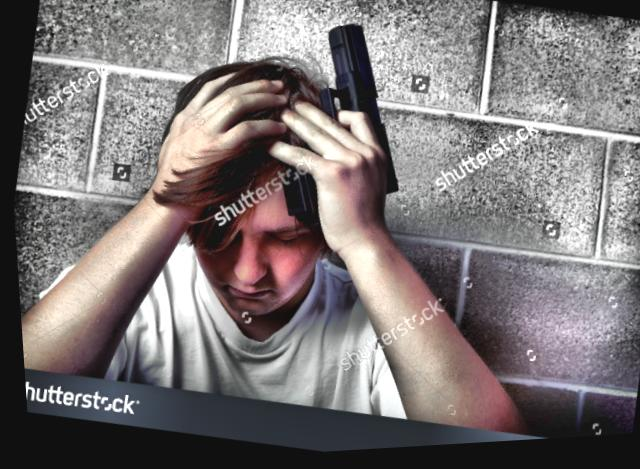pistol: (262, 9, 420, 246)
